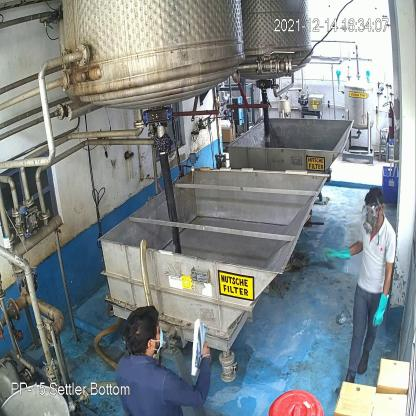glove: (371, 291, 391, 328), (323, 242, 353, 266)
goggles: (361, 200, 384, 216)
mask: (360, 212, 382, 234)
